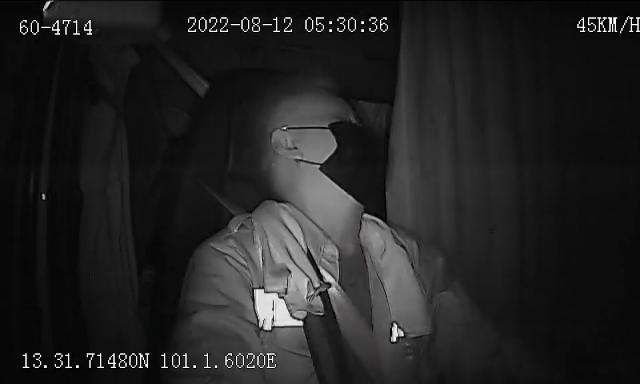Seatbelt: (128, 116, 364, 364), (160, 132, 184, 132)
